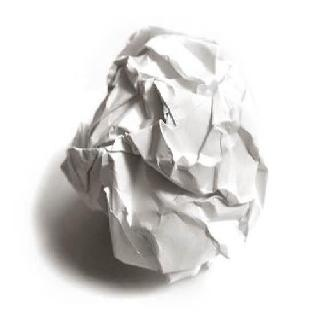8/可回收垃圾/纸: (60, 25, 271, 283)
